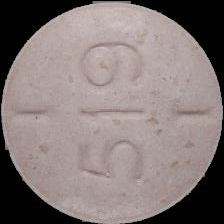63629-2718: (0, 0, 224, 224)
